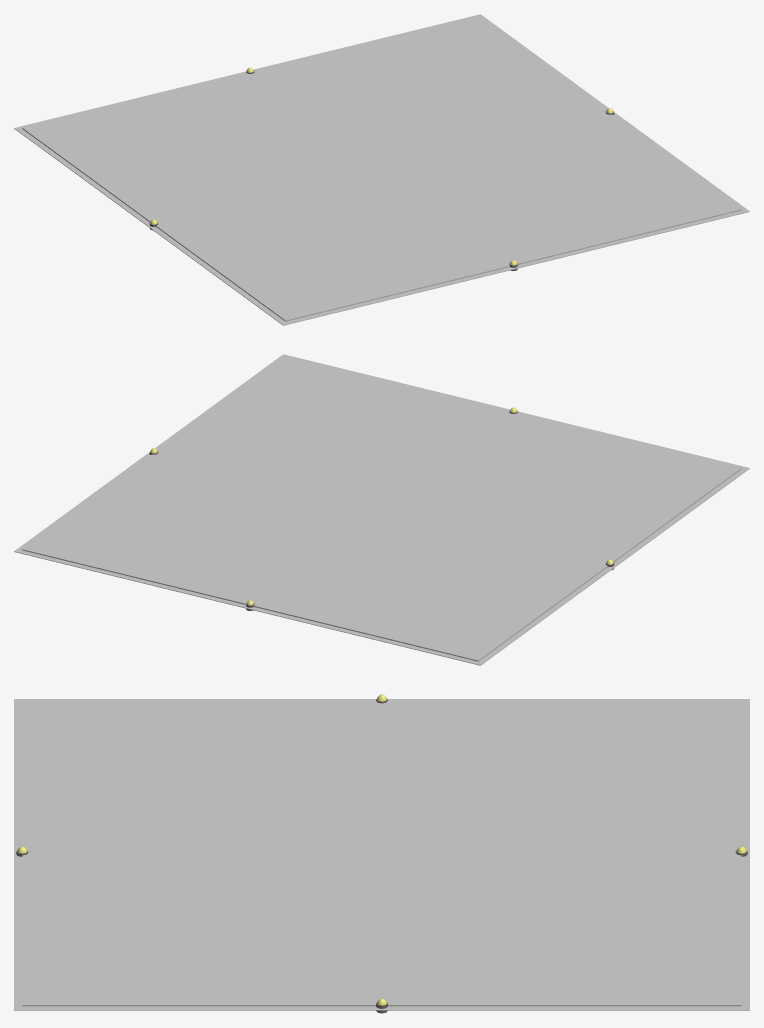
The model's file is g_o_FireFighterlHelipad.fbx.
The picture shows the model from 3 angles, top to bottom: view 1: azimuth 30°, elevation 25°; view 2: azimuth 150°, elevation 25°; view 3: azimuth 270°, elevation 25°; orthographic projection. The views are drawn at different scales.
Parts seen in each view (by area): view 1: landingpadfire; view 2: landingpadfire; view 3: landingpadfire.
Part boxes in pixels (<box>): landingpadfire: <box>14,14,749,325</box>; landingpadfire: <box>14,354,749,665</box>; landingpadfire: <box>14,694,749,1013</box>.
Bounding box in the file's own units: 8.8 × 0.16 × 8.8.
